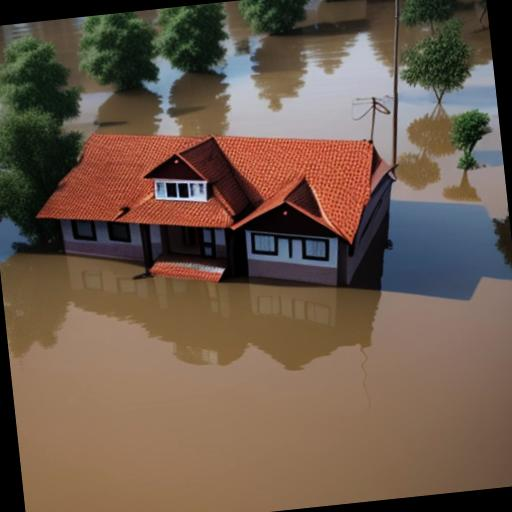flood: (0, 0, 512, 512), (0, 0, 395, 139), (398, 20, 430, 63), (374, 110, 393, 161)
house: (28, 98, 412, 323)
